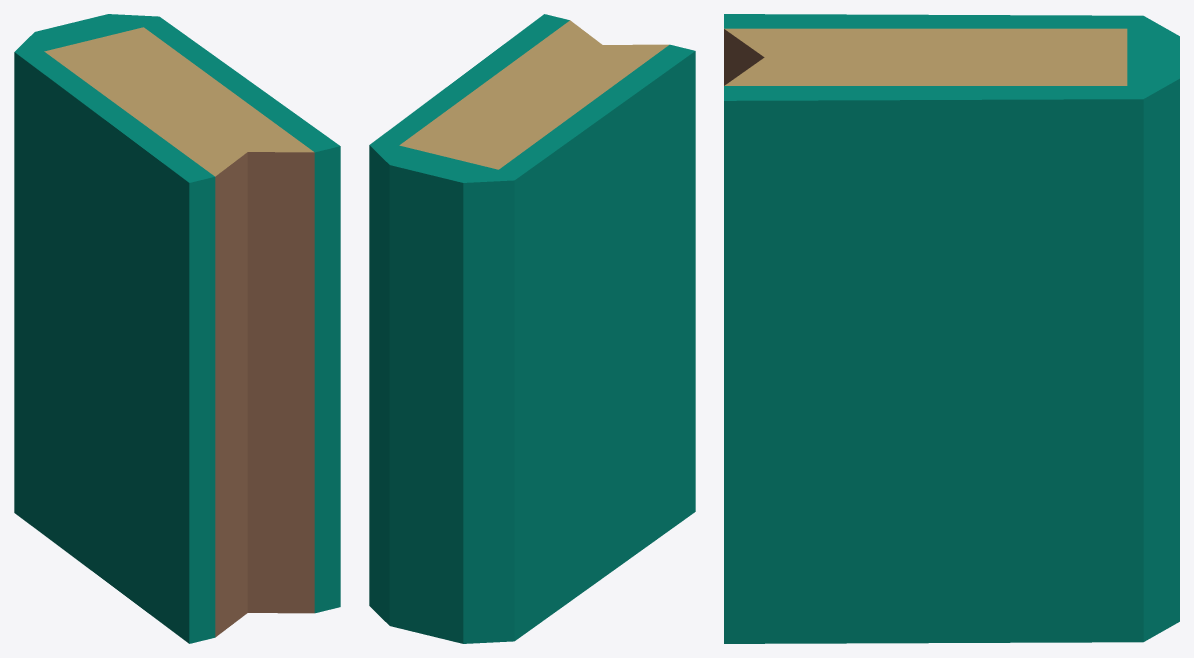
File: TB_Prop_Book_F.FBX
3 renders of one model, left to right at view 1: azimuth 30°, elevation 25°; view 2: azimuth 150°, elevation 25°; view 3: azimuth 270°, elevation 25°, orthographic. The views are drawn at different scales.
Parts seen in each view (by area): view 1: TB_Prop_Book_F; view 2: TB_Prop_Book_F; view 3: TB_Prop_Book_F.
Boxes of the visible parts, left/top/right/bottom form: TB_Prop_Book_F: left=14, top=14, right=340, bottom=643; TB_Prop_Book_F: left=369, top=14, right=695, bottom=643; TB_Prop_Book_F: left=724, top=14, right=1179, bottom=643.
Size of the model in its own units: 0.2401 by 0.6998 by 0.5323.
